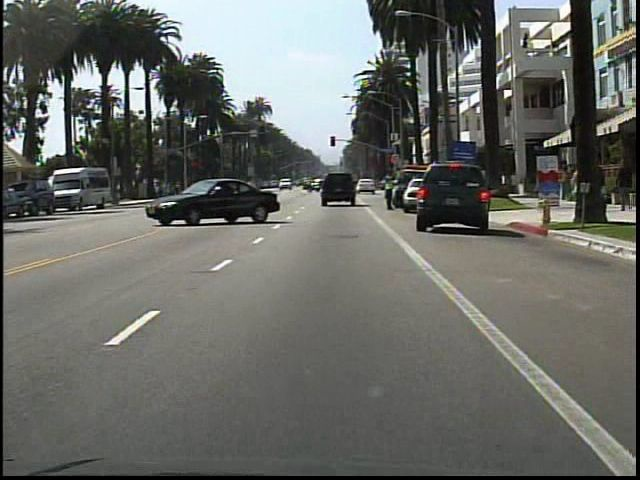person: (614, 155, 635, 215), (570, 161, 588, 216), (382, 169, 400, 216)
